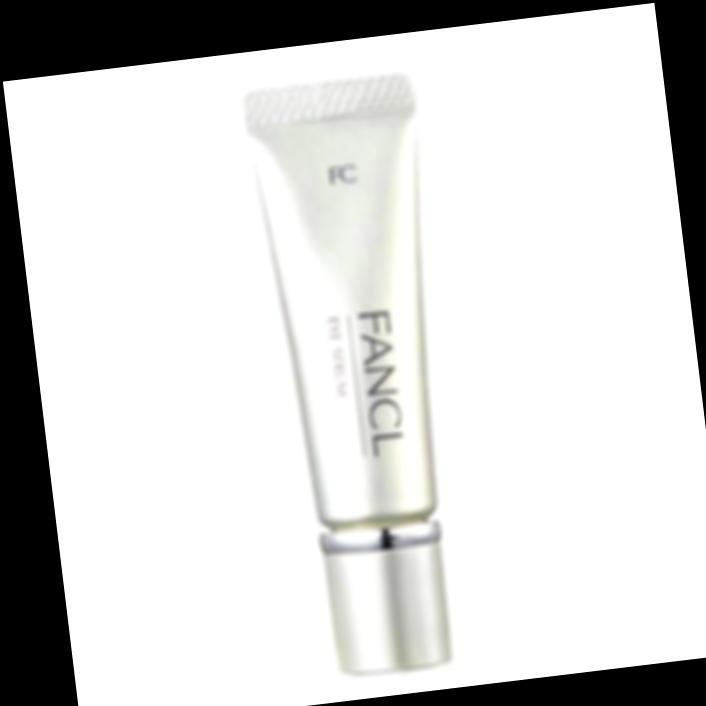cosmetic: (242, 69, 472, 682)
